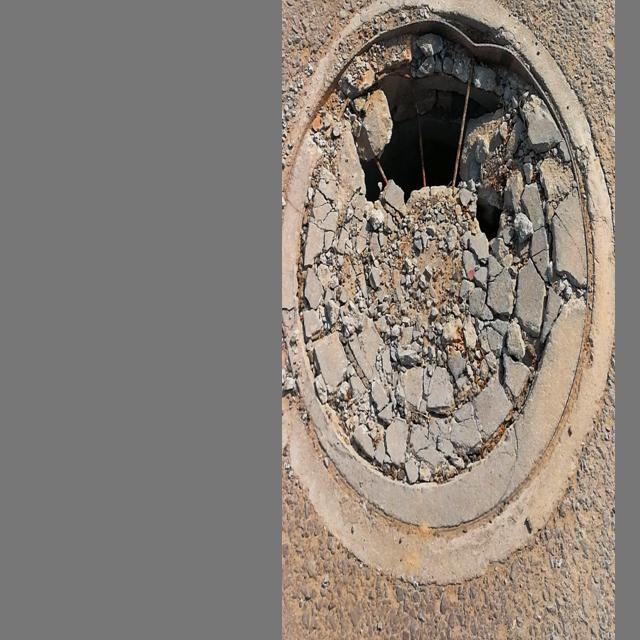broke: (282, 0, 615, 582)
